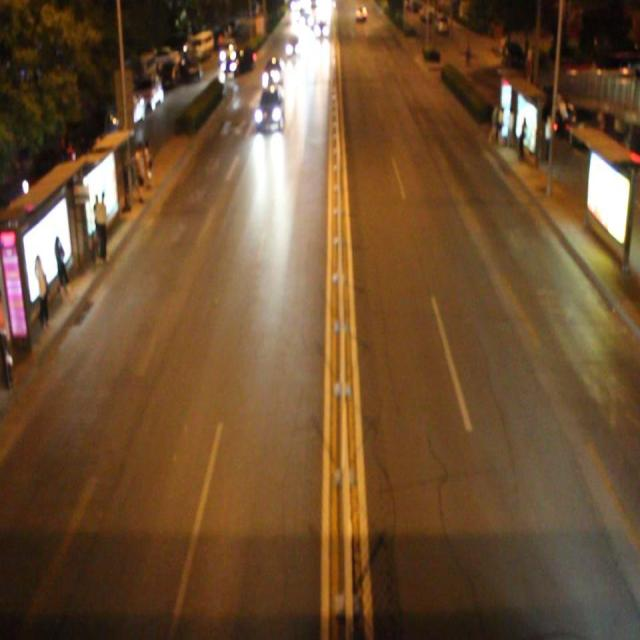car: (256, 86, 285, 129), (262, 54, 284, 86)
